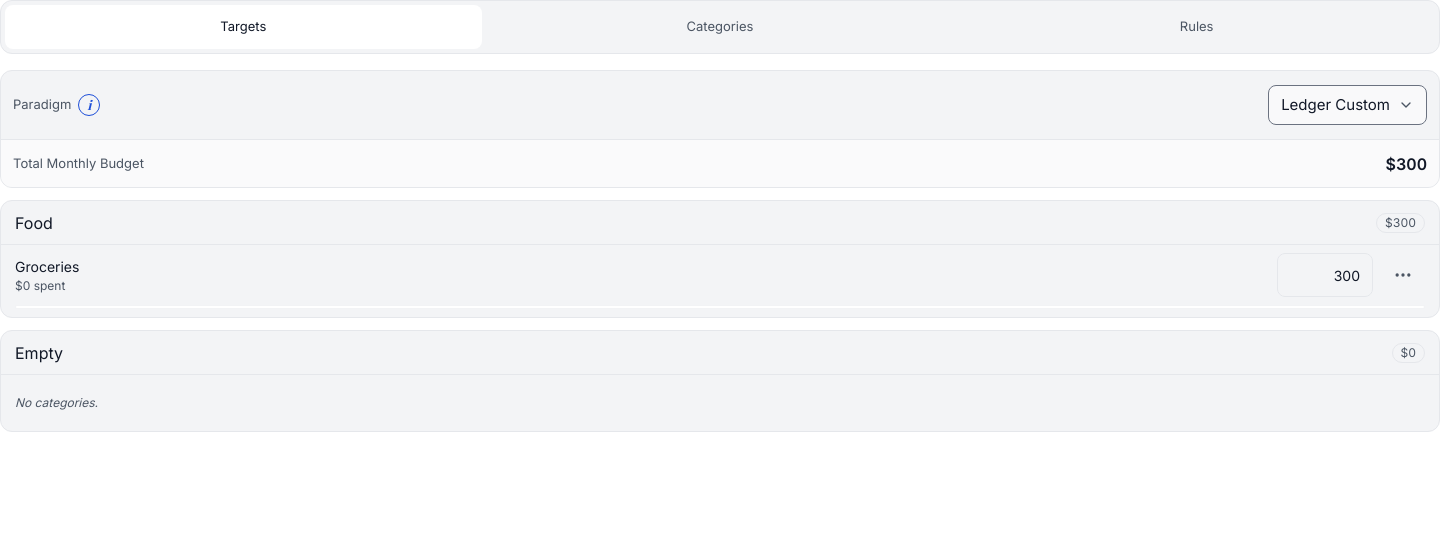
Test: BudgetSetupMobile › lists both rule cards on the Rules section
The width and height of the screenshot is (1440, 537).
Click the tab "Rules".
click(1197, 27)  # box [958,5,1435,49]
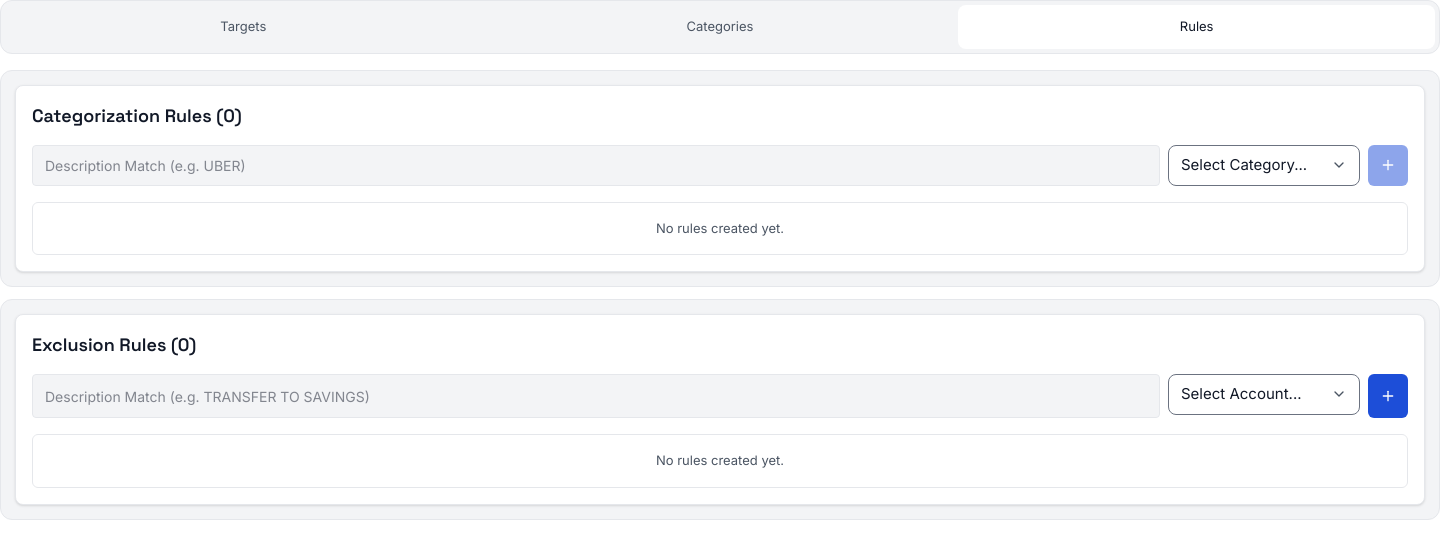
expect the heading "Categorization Rules (0)" is shown: met, box [32,102,242,129]
expect the heading "Exclusion Rules (0)" is shown: met, box [32,331,196,358]
